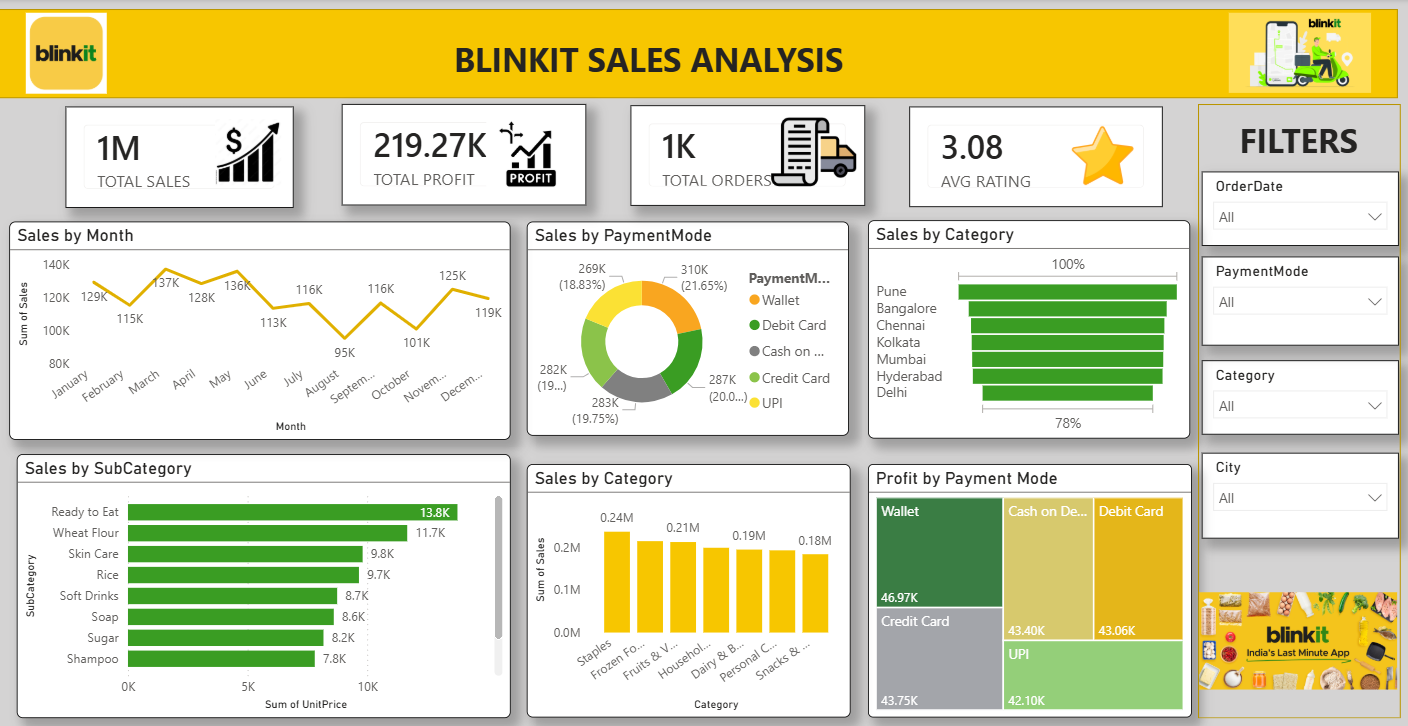

Layout of this report page (visuals, bound fields, positions):
{"tool":"powerbi","page":{"name":"Page 4","canvas":[1381,720],"ordinal":3},"visuals":[{"type":"shape","box":[0,10.4,1369.5,87.3],"z":0},{"type":"clusteredBarChart","title":"Sales by SubCategory","fields":{"Category":["Sheet1.SubCategory"],"Y":["Sum(Sheet1.UnitPrice)"]},"box":[18.5,444.9,483.4,258.1],"z":1000},{"type":"slicer","fields":{"Values":["Sheet1.OrderDate"]},"box":[1177,168.8,192.5,72.5],"z":2000},{"type":"slicer","fields":{"Values":["Sheet1.Category"]},"box":[1177,353.8,192.5,72.5],"z":3000},{"type":"slicer","fields":{"Values":["Sheet1.City"]},"box":[1177,444.1,192.5,84.4],"z":4000},{"type":"slicer","fields":{"Values":["Sheet1.PaymentMode"]},"box":[1177,251.7,192.5,87.3],"z":5000},{"type":"treemap","title":"Profit by Payment Mode","fields":{"Group":["Sheet1.PaymentMode"],"Values":["Sum(Sheet1.Profit)"]},"box":[851.2,454.8,316.5,248.1],"z":6000},{"type":"donutChart","title":"Sales by PaymentMode","fields":{"Category":["Sheet1.PaymentMode"],"Y":["Sum(Sheet1.Sales)"]},"box":[517.6,218.2,315.1,209.6],"z":7000},{"type":"cardVisual","fields":{"Data":["Sheet1.TOTAL SALES"]},"box":[66.3,105.3,223.5,99.5],"z":8000},{"type":"cardVisual","fields":{"Data":["Sheet1.TOTAL PROFIT"]},"box":[336,102.4,239.4,99.5],"z":9000},{"type":"cardVisual","fields":{"Data":["Sheet1.TOTAL ORDERS"]},"box":[618.6,103.8,229.3,98],"z":10000},{"type":"textbox","box":[13.7,31.6,1246,65.9],"z":11000},{"type":"lineChart","title":" Sales by Month","fields":{"Category":["Sheet1.OrderDate.Variation.Date Hierarchy.Month"],"Y":["Sum(Sheet1.Sales)"]},"box":[11.4,218.2,490.5,213.9],"z":12000},{"type":"clusteredColumnChart","title":"Sales by Category","fields":{"Category":["Sheet1.Category"],"Y":["Sum(Sheet1.Sales)"]},"box":[517.6,454.8,316.5,248.1],"z":13000},{"type":"funnel","title":"Sales by Category","fields":{"Category":["Sheet1.City"],"Y":["Sum(Sheet1.Sales)"]},"box":[851.2,216.7,315.1,213.9],"z":14000},{"type":"image","box":[0,13.5,133.3,79.5],"z":15000},{"type":"image","box":[188.9,116.8,112.5,64.9],"z":16000},{"type":"image","box":[474.4,111,86.5,80.7],"z":17000},{"type":"image","box":[748.3,108.1,99.5,83.6],"z":18000},{"type":"image","box":[1175.5,553.7,193.9,148],"z":19000},{"type":"image","box":[1200.7,13.3,145.1,78.5],"z":20000},{"type":"cardVisual","fields":{"Data":["Sheet1.AVG RATING"]},"box":[891.1,105.3,248,98],"z":21000},{"type":"image","box":[1022.3,106.7,116.8,93.7],"z":22000},{"type":"shape","box":[1174,102.2,198.4,601.1],"z":23000},{"type":"textbox","box":[1175.1,111.3,194.4,57.5],"z":24000}]}

Visuals, with their boxes in screenshot pixels (x1, y1, x2, y2), scaled from the page's 1381x720 canvas onto the 1408x726 screenshot:
shape: x1=0, y1=10, x2=1396, y2=99
"Sales by SubCategory" clusteredBarChart: x1=19, y1=449, x2=512, y2=709
slicer - Sheet1.OrderDate: x1=1200, y1=170, x2=1396, y2=243
slicer - Sheet1.Category: x1=1200, y1=357, x2=1396, y2=430
slicer - Sheet1.City: x1=1200, y1=448, x2=1396, y2=533
slicer - Sheet1.PaymentMode: x1=1200, y1=254, x2=1396, y2=342
"Profit by Payment Mode" treemap: x1=868, y1=459, x2=1191, y2=709
"Sales by PaymentMode" donutChart: x1=528, y1=220, x2=849, y2=431
cardVisual - Sheet1.TOTAL SALES: x1=68, y1=106, x2=295, y2=207
cardVisual - Sheet1.TOTAL PROFIT: x1=343, y1=103, x2=587, y2=204
cardVisual - Sheet1.TOTAL ORDERS: x1=631, y1=105, x2=864, y2=203
textbox: x1=14, y1=32, x2=1284, y2=98
" Sales by Month" lineChart: x1=12, y1=220, x2=512, y2=436
"Sales by Category" clusteredColumnChart: x1=528, y1=459, x2=850, y2=709
"Sales by Category" funnel: x1=868, y1=219, x2=1189, y2=434
image: x1=0, y1=14, x2=136, y2=94
image: x1=193, y1=118, x2=307, y2=183
image: x1=484, y1=112, x2=572, y2=193
image: x1=763, y1=109, x2=864, y2=193
image: x1=1198, y1=558, x2=1396, y2=708
image: x1=1224, y1=13, x2=1372, y2=93
cardVisual - Sheet1.AVG RATING: x1=909, y1=106, x2=1161, y2=205
image: x1=1042, y1=108, x2=1161, y2=202
shape: x1=1197, y1=103, x2=1399, y2=709
textbox: x1=1198, y1=112, x2=1396, y2=170
